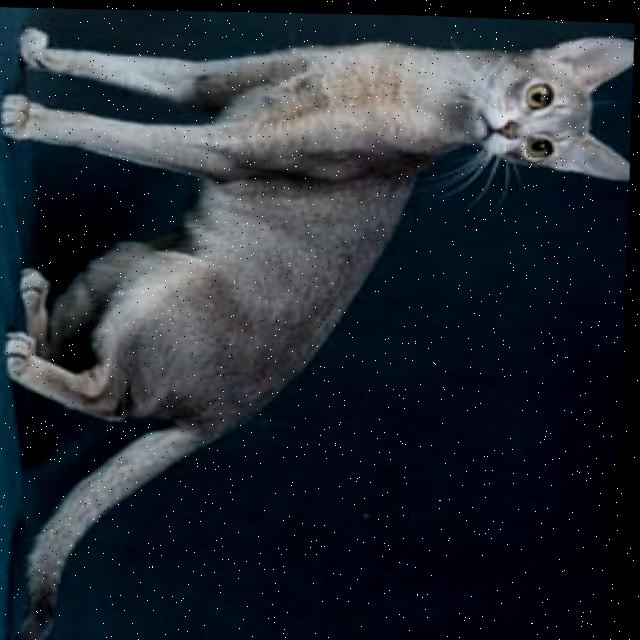Abyssinian: (0, 7, 640, 640)
